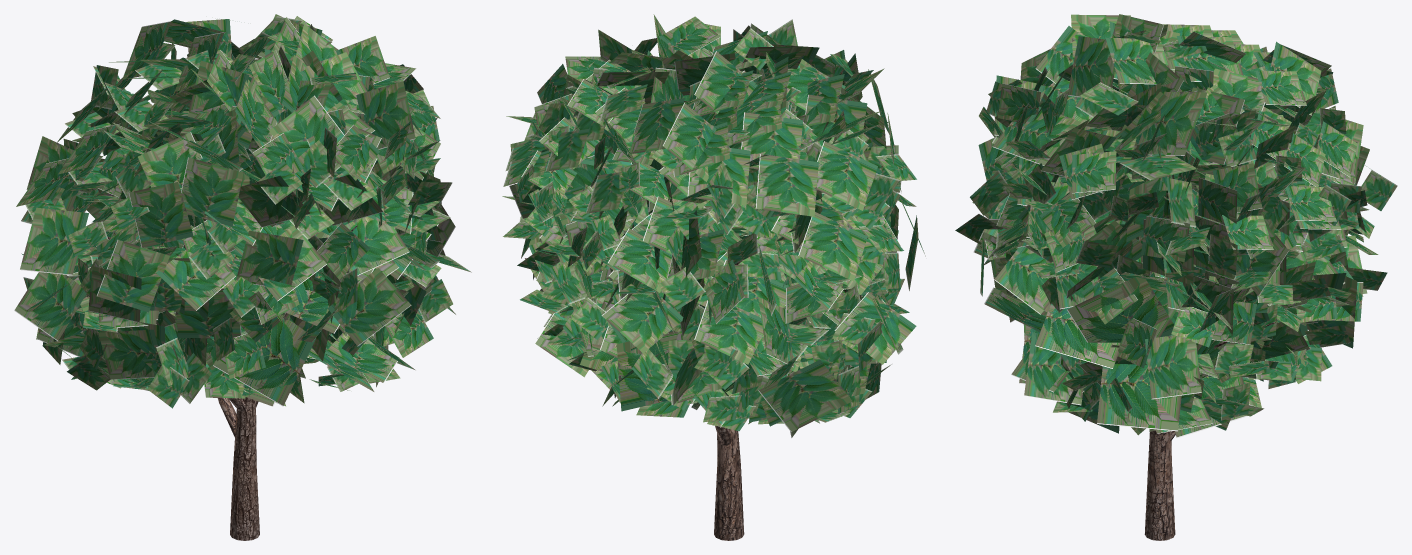
The model's file is tree_32.glb.
3 renders of one model, left to right at view 1: azimuth 30°, elevation 25°; view 2: azimuth 150°, elevation 25°; view 3: azimuth 270°, elevation 25°, orthographic.
Parts seen in each view (by area): view 1: MainBuilding; view 2: MainBuilding; view 3: MainBuilding.
Boxes of the visible parts, box(x1,y1,x2,y2) form: MainBuilding: box(14, 14, 471, 540); MainBuilding: box(502, 14, 925, 540); MainBuilding: box(955, 14, 1397, 540).
Bounding box in the file's own units: 1.13 × 1.33 × 1.07.
Materials: 1 (1 with a texture image).
